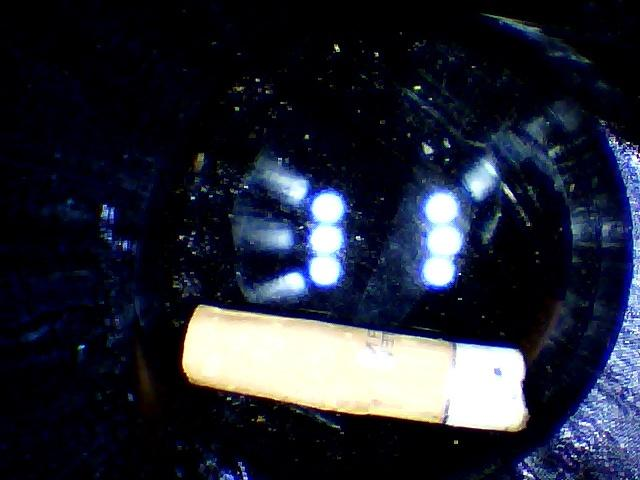megot: (177, 301, 535, 441)
